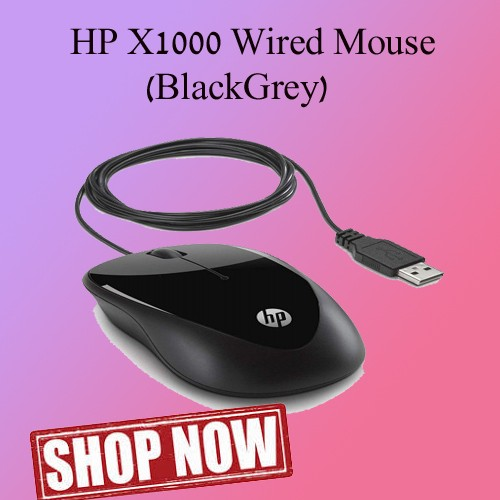hp-mouse-X1000: (75, 135, 442, 406)
